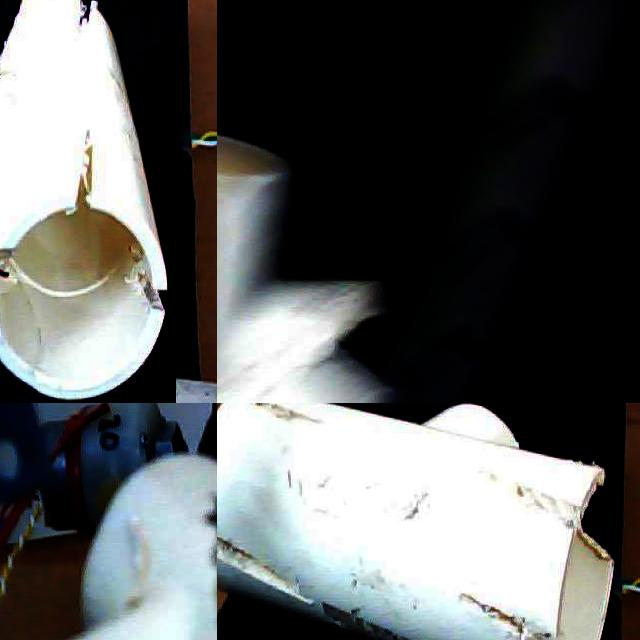Defective: (217, 503, 397, 640), (289, 271, 404, 403), (508, 468, 611, 568), (115, 174, 166, 332), (47, 130, 119, 240), (0, 0, 55, 126), (461, 581, 563, 640), (229, 403, 354, 450), (0, 212, 41, 338), (54, 0, 102, 61)
T Joint: (217, 403, 616, 640), (0, 0, 170, 403), (68, 452, 217, 640)
